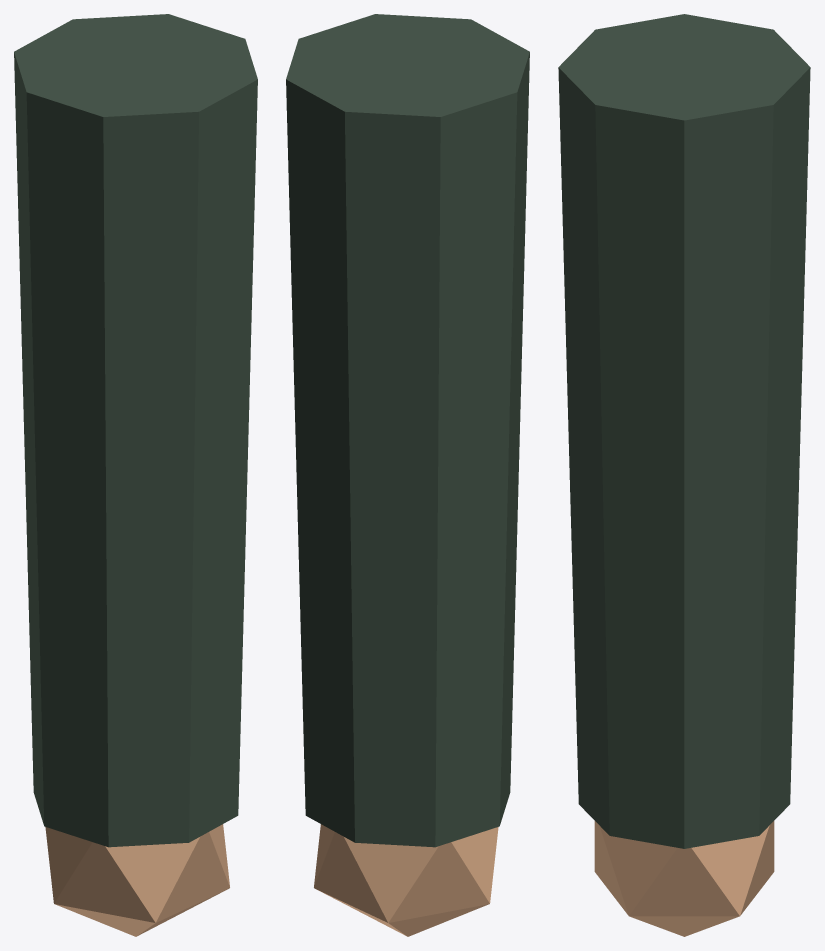
File: insan_e3k_kol.glb
The picture shows the model from 3 angles, left to right: view 1: azimuth 30°, elevation 25°; view 2: azimuth 150°, elevation 25°; view 3: azimuth 270°, elevation 25°; orthographic projection.
Parts seen in each view (by area): view 1: Cone; view 2: Cone; view 3: Cone.
Part boxes in pixels (x1,y1,x2,y2): Cone: [14, 14, 257, 936]; Cone: [286, 14, 529, 936]; Cone: [558, 14, 810, 936].
Bounding box in the file's own units: 0.031 × 0.118 × 0.031.
